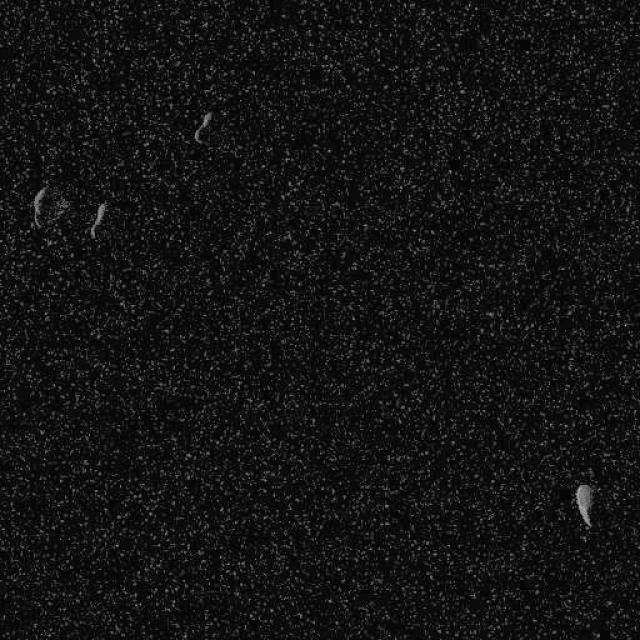D2: (31, 182, 70, 228), (574, 482, 594, 528), (192, 108, 214, 144), (88, 201, 108, 239)
